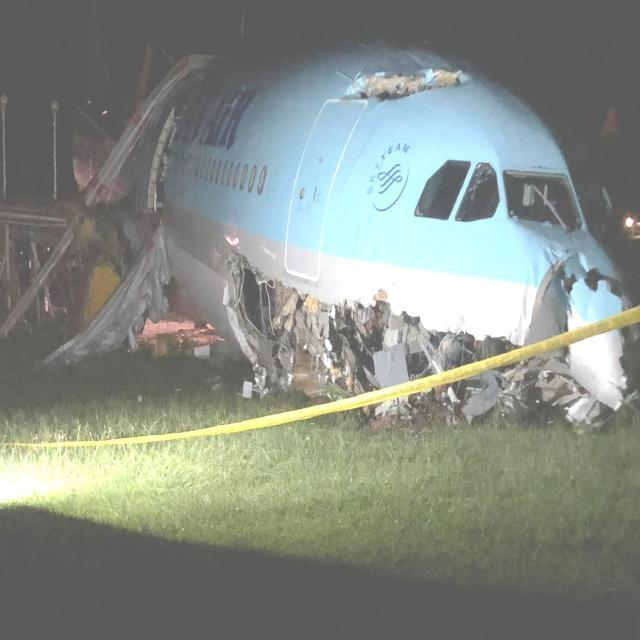crack: (338, 61, 474, 112)
